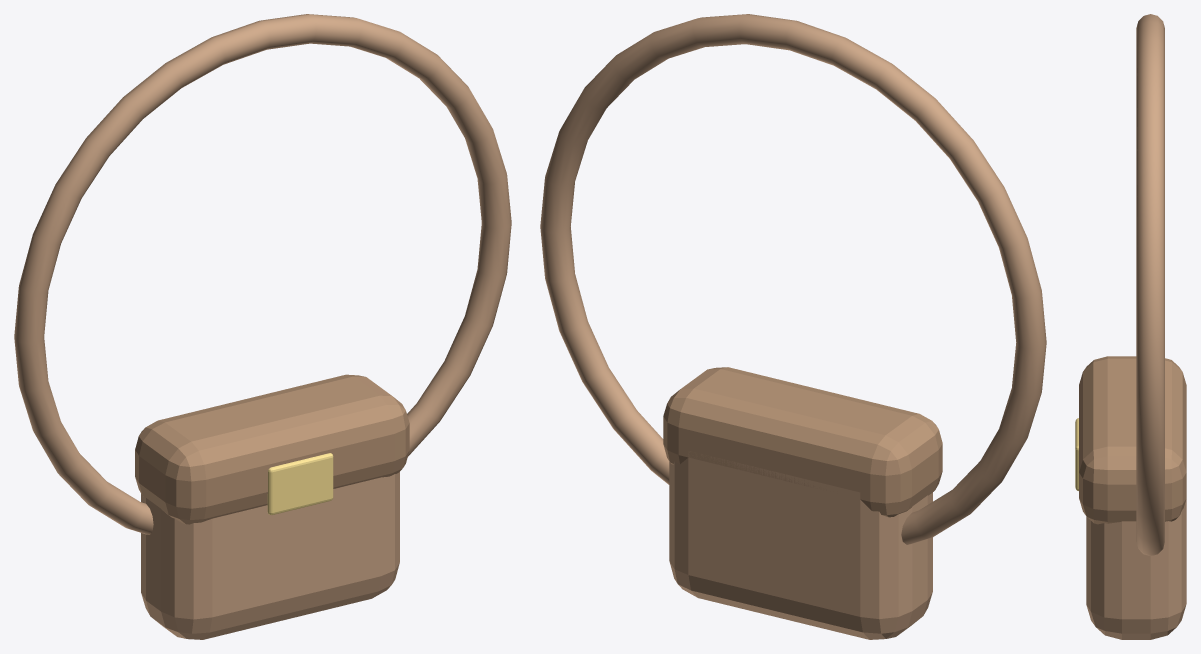
The model's file is satchel.glb.
3 renders of one model, left to right at view 1: azimuth 30°, elevation 25°; view 2: azimuth 150°, elevation 25°; view 3: azimuth 270°, elevation 25°, orthographic. The views are drawn at different scales.
Visible parts, largest first — view 1: satchel; view 2: satchel; view 3: satchel.
Part boxes in pixels (x1,y1,x2,y2): satchel: [14, 14, 511, 639]; satchel: [540, 14, 1046, 639]; satchel: [1075, 14, 1186, 639].
Bounding box in the file's own units: 0.76 × 0.86 × 0.155.
